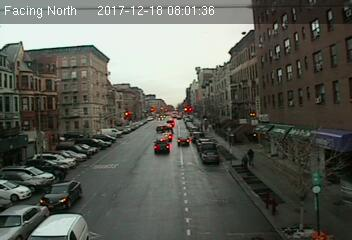car: (1, 203, 47, 240), (38, 180, 82, 210), (153, 137, 171, 155), (201, 150, 219, 162), (177, 135, 191, 146)
pedestrian: (247, 148, 257, 167)
